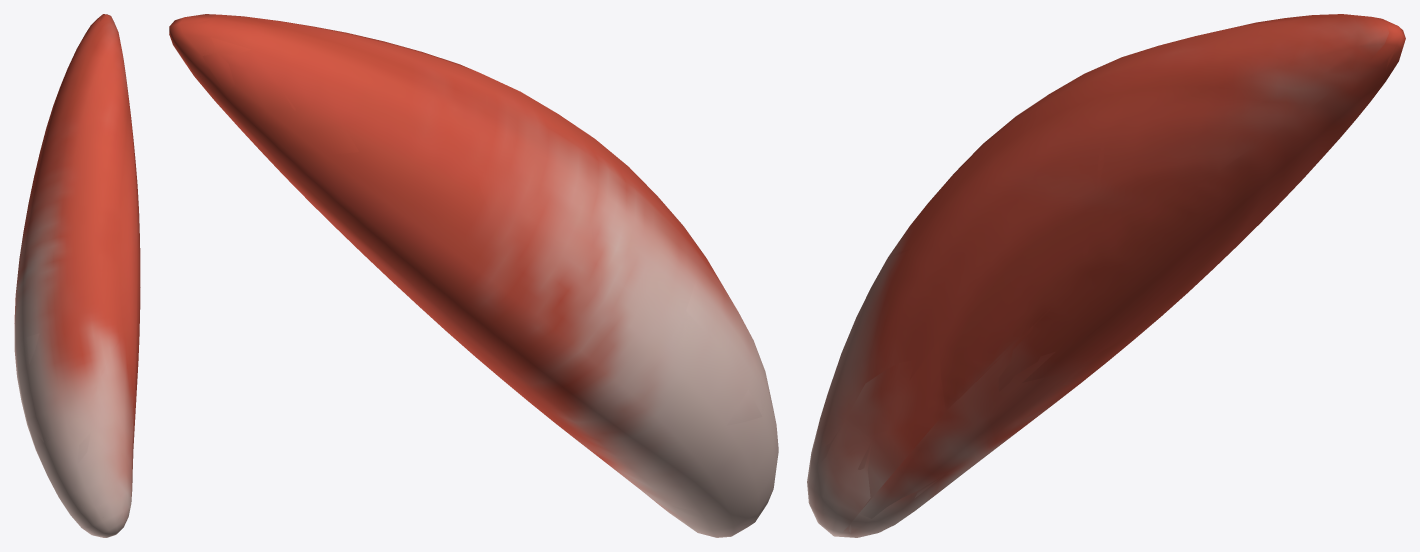
The model's file is R vastus lateralis.fbx.
3 views of the same model, side by side, from view 1: azimuth 30°, elevation 25°; view 2: azimuth 150°, elevation 25°; view 3: azimuth 270°, elevation 25° (orthographic). The views are drawn at different scales.
Visible parts, largest first — view 1: R vastus lateralis, R vastus lateralis low; view 2: R vastus lateralis, R vastus lateralis low; view 3: R vastus lateralis, R vastus lateralis low.
Boxes of the visible parts, x1=… form: R vastus lateralis: x1=14, y1=14, x2=140, y2=537; R vastus lateralis low: x1=17, y1=14, x2=138, y2=536; R vastus lateralis: x1=169, y1=14, x2=778, y2=537; R vastus lateralis low: x1=171, y1=14, x2=777, y2=526; R vastus lateralis: x1=807, y1=14, x2=1405, y2=537; R vastus lateralis low: x1=809, y1=17, x2=1404, y2=532.
Bounding box in the file's own units: 5.69 × 9.83 × 8.29.
